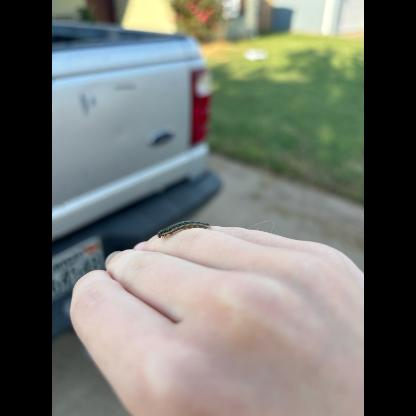Fall Armyworm Larvae: (155, 218, 212, 240)
